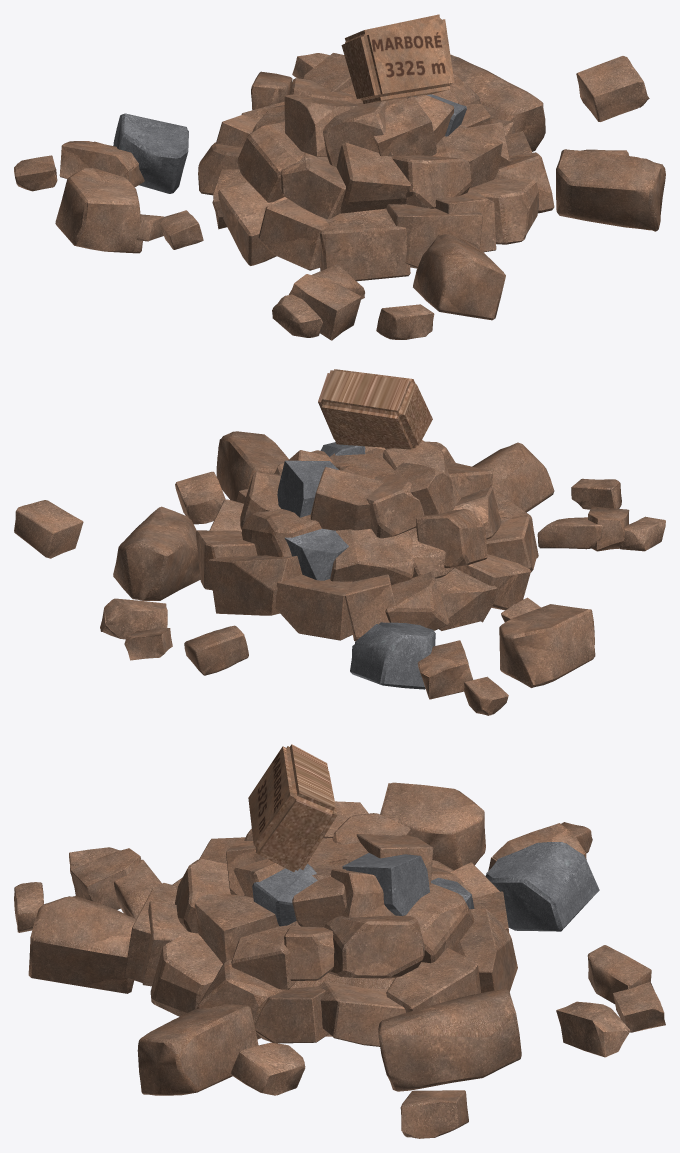
The model's file is cima-cilindro.glb.
3 renders of one model, top to bottom at view 1: azimuth 30°, elevation 25°; view 2: azimuth 150°, elevation 25°; view 3: azimuth 270°, elevation 25°, orthographic. The views are drawn at different scales.
Parts seen in each view (by area): view 1: hito_caliza_naranja, placa_marbore, bloque16, bloque15, bloque14, bloque12, bloque6, bloque0, bloque8, bloque4, bloque10, bloque3 (+6 smaller); view 2: hito_caliza_naranja, placa_marbore, bloque15, bloque6, hito_caliza_gris, bloque12, bloque14, bloque16, bloque0, bloque4, bloque13, bloque9 (+7 smaller); view 3: hito_caliza_naranja, bloque6, bloque14, bloque16, placa_marbore, bloque12, bloque15, hito_caliza_gris, bloque7, bloque9, bloque0, bloque8 (+6 smaller).
Part boxes in pixels (x1,y1,x2,y2): hito_caliza_naranja: [198, 53, 554, 281]; placa_marbore: [341, 14, 454, 103]; bloque16: [556, 149, 665, 231]; bloque15: [55, 168, 142, 253]; bloque14: [413, 234, 505, 320]; bloque12: [113, 113, 188, 193]; bloque6: [450, 54, 545, 151]; bloque0: [576, 56, 649, 121]; bloque8: [289, 274, 361, 340]; bloque4: [59, 141, 144, 186]; bloque10: [376, 304, 434, 339]; bloque3: [272, 294, 322, 337]; hito_caliza_naranja: [195, 440, 538, 641]; placa_marbore: [318, 369, 432, 449]; bloque15: [499, 604, 595, 687]; bloque6: [113, 506, 200, 600]; hito_caliza_gris: [277, 442, 365, 580]; bloque12: [350, 622, 435, 689]; bloque14: [472, 442, 554, 512]; bloque16: [216, 431, 288, 501]; bloque0: [14, 500, 83, 558]; bloque4: [417, 640, 473, 699]; bloque13: [184, 625, 248, 675]; bloque9: [100, 598, 167, 639]; hito_caliza_naranja: [124, 801, 517, 1046]; bloque6: [378, 988, 521, 1091]; bloque14: [28, 896, 136, 993]; bloque16: [137, 1004, 258, 1095]; placa_marbore: [248, 744, 337, 872]; bloque12: [485, 842, 599, 931]; bloque15: [380, 782, 485, 870]; hito_caliza_gris: [252, 853, 474, 926]; bloque7: [231, 1042, 305, 1095]; bloque9: [556, 1001, 630, 1057]; bloque0: [400, 1090, 468, 1138]; bloque8: [71, 848, 141, 909].
Size of the model in its own units: 4.02 by 1.42 by 3.53.
3 materials, 3 textured.
